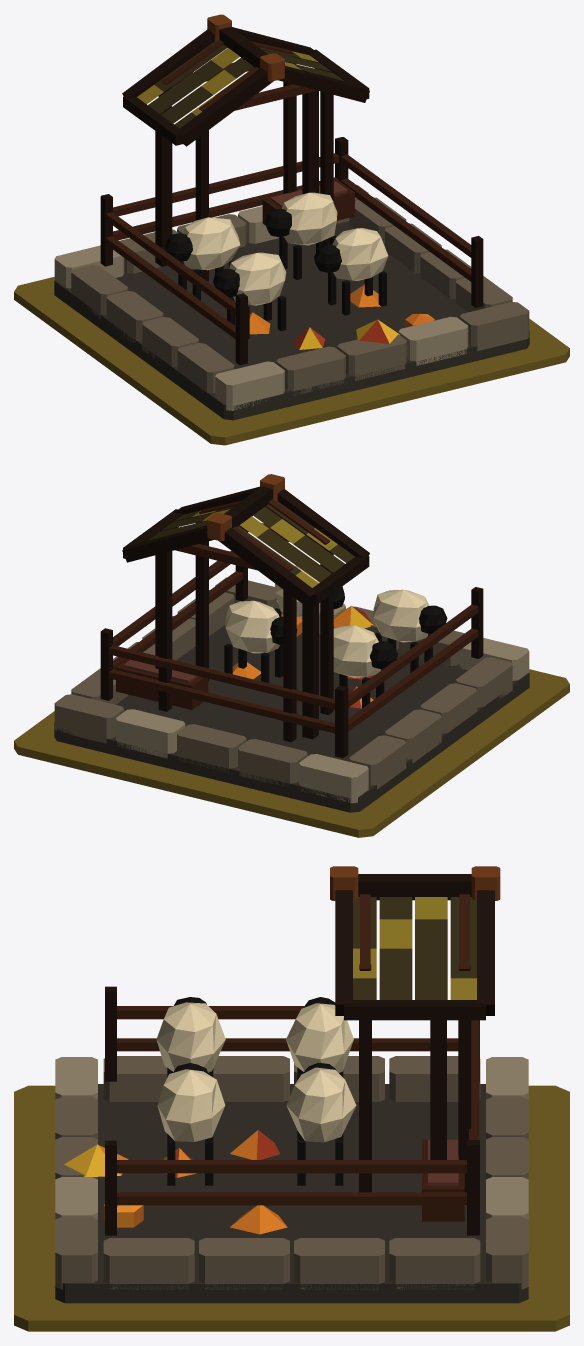
File: pasture_t6.glb
The picture shows the model from 3 angles, top to bottom: view 1: azimuth 30°, elevation 25°; view 2: azimuth 150°, elevation 25°; view 3: azimuth 270°, elevation 25°; orthographic projection. The views are drawn at different scales.
Parts seen in each view (by area): view 1: MMR | pasture | T06 Architecture.001, MMR | pasture | Tier 06 Ground.001, MMR | pasture | T06 Autumn Dressing.001; view 2: MMR | pasture | T06 Architecture.001, MMR | pasture | Tier 06 Ground.001, MMR | pasture | T06 Autumn Dressing.001; view 3: MMR | pasture | T06 Architecture.001, MMR | pasture | Tier 06 Ground.001, MMR | pasture | T06 Autumn Dressing.001.
Boxes of the visible parts, x1,y1,x2,y2 form: MMR | pasture | T06 Architecture.001: (54, 14, 529, 420); MMR | pasture | Tier 06 Ground.001: (14, 277, 569, 445); MMR | pasture | T06 Autumn Dressing.001: (249, 284, 434, 349); MMR | pasture | T06 Architecture.001: (54, 474, 529, 812); MMR | pasture | Tier 06 Ground.001: (14, 669, 569, 837); MMR | pasture | T06 Autumn Dressing.001: (232, 605, 375, 708); MMR | pasture | T06 Architecture.001: (55, 866, 528, 1303); MMR | pasture | Tier 06 Ground.001: (14, 1085, 569, 1331); MMR | pasture | T06 Autumn Dressing.001: (64, 1130, 287, 1234).
Bounding box in the file's own units: 2.35 × 1.59 × 2.35.
Materials: 1 (1 with a texture image).
